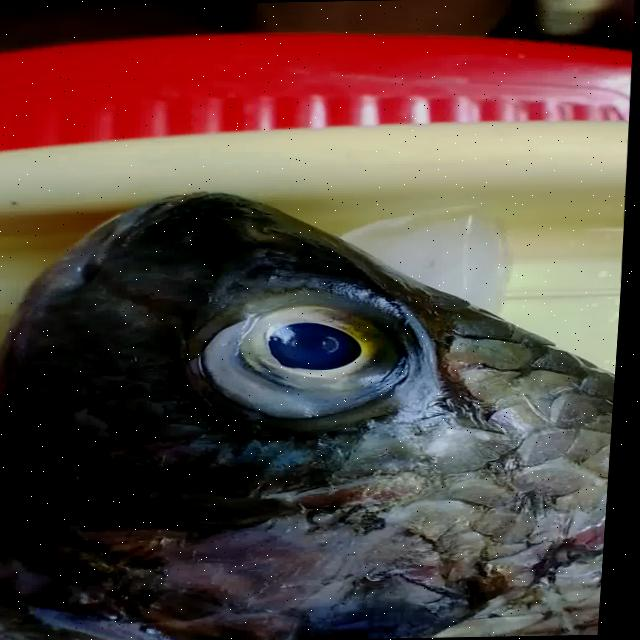Fresh: (169, 259, 460, 433)
